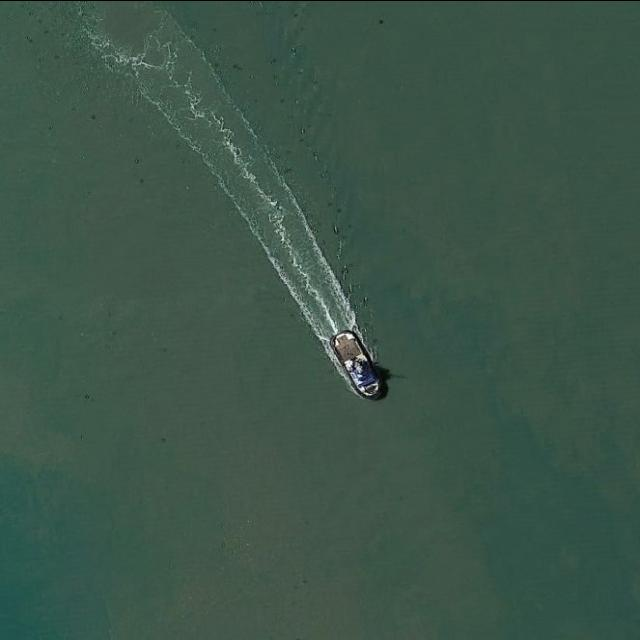ship: (324, 326, 386, 400)
